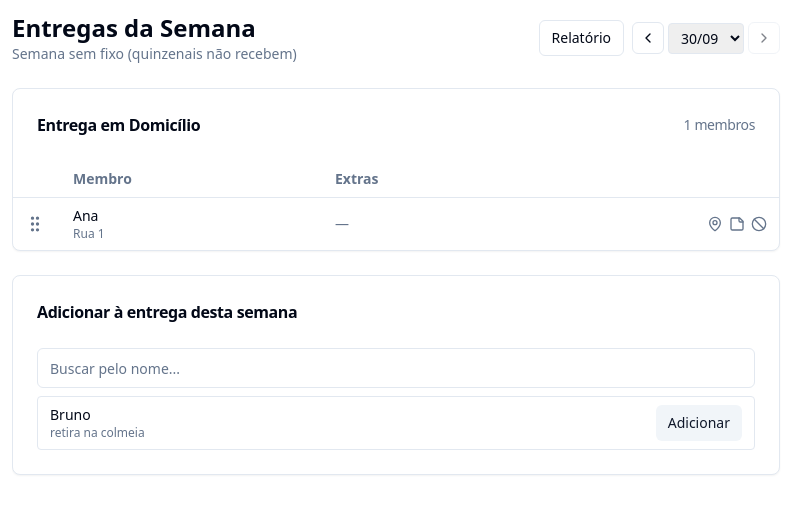
Test: adicionar membro à entrega da semana › adicionar cria o pedido mínimo da semana com incluida
This screenshot has width=797, height=511.
Click the button "Adicionar": click(699, 423) [656,405,742,441]
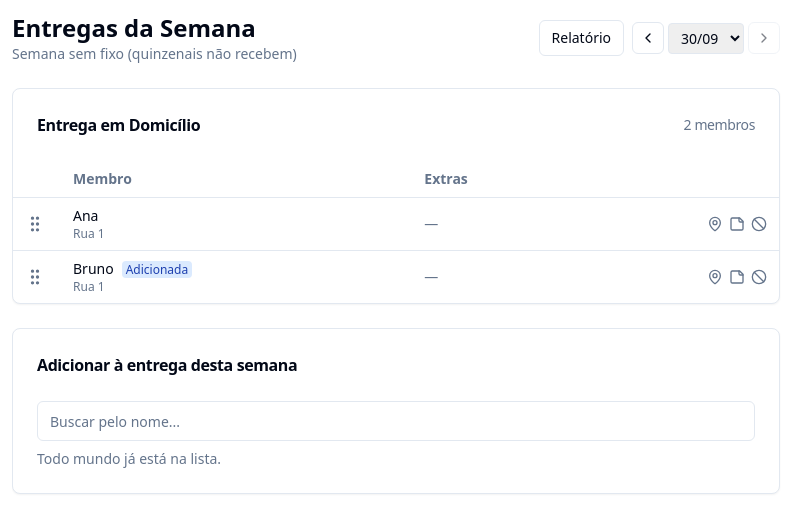
Expected: the text "Adicionada" is shown, [122,261,192,278]
Expected: the 3rd row is shown, [13,250,779,303]
